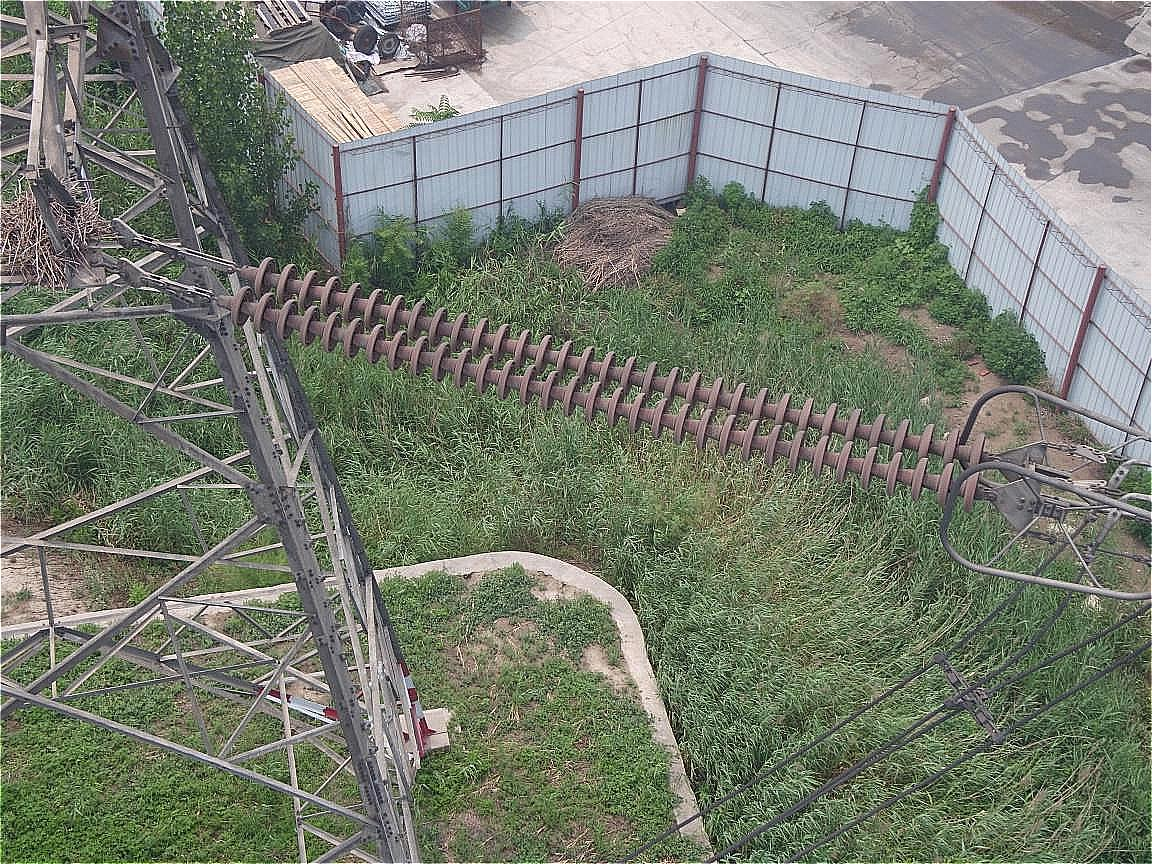insultor1: (230, 256, 988, 510)
